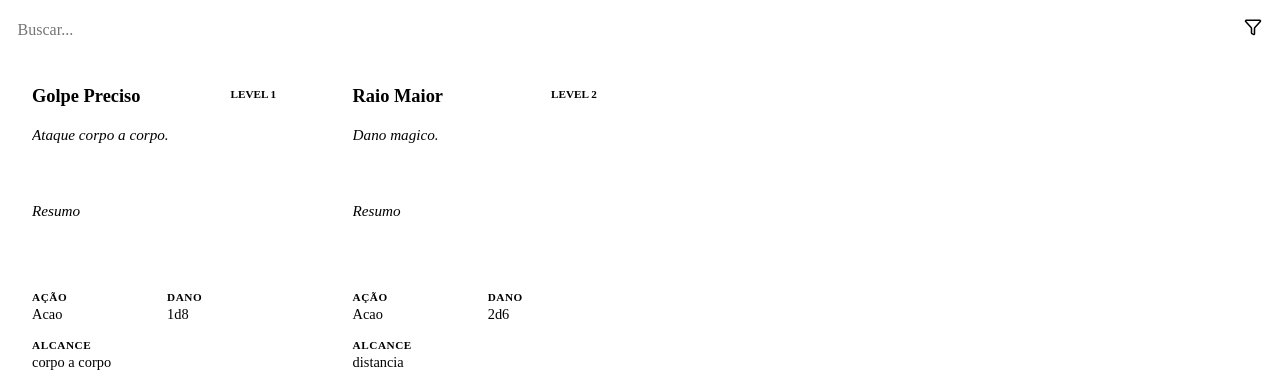
Test case: AbilitiesFiltersClient › exibe estado vazio quando busca nao encontra resultados
Type "inexistente" into the search field with placeholder "Buscar..." at point(614, 30), box [8, 13, 1221, 46]
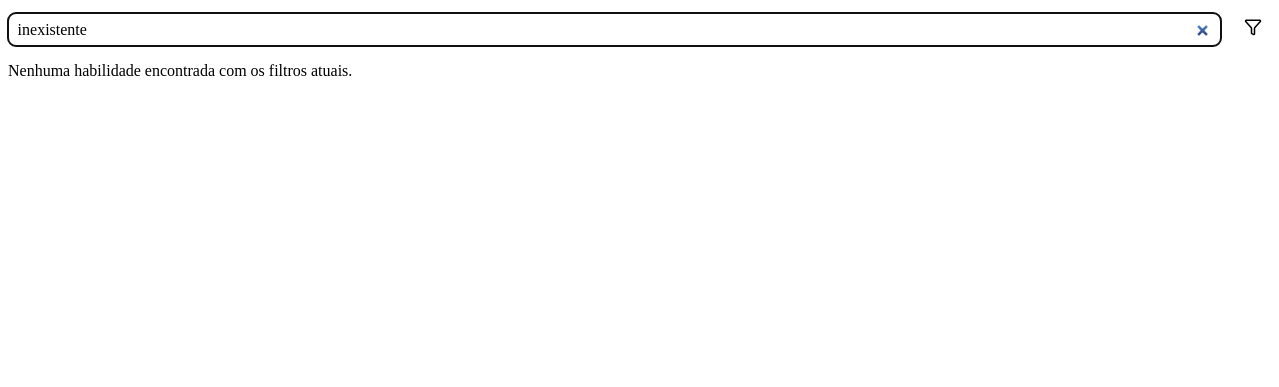
Expected: the text "Nenhuma habilidade encontrada com os filtros atuais." is shown, [8, 62, 352, 79]
